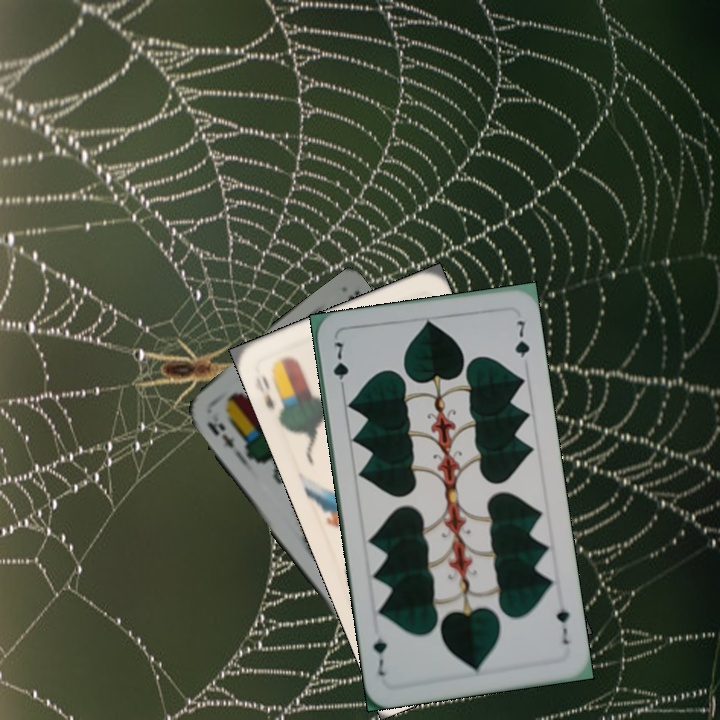EK: (203, 417, 238, 451)
EO: (257, 363, 287, 420)
G7: (329, 338, 351, 395), (552, 603, 572, 647)
